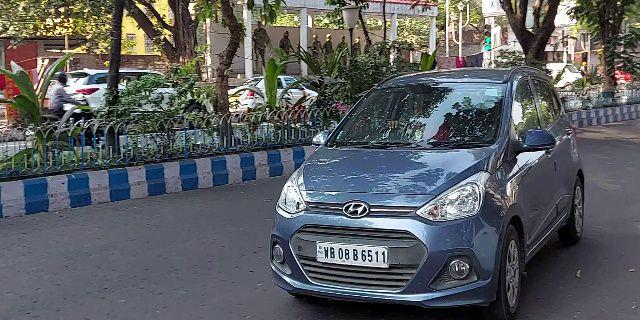Car: (265, 60, 591, 317)
